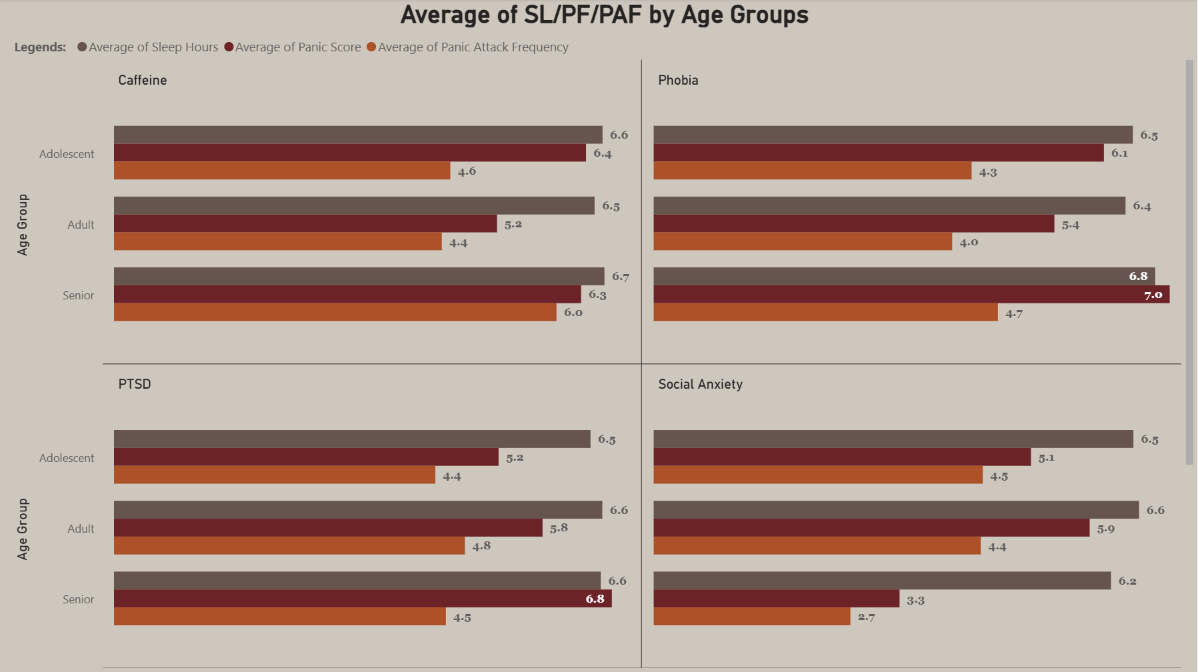

The page's visual inventory and layout, read from the dashboard file:
{"tool":"powerbi","page":{"name":"Age Group Analysis","canvas":[1280,720],"ordinal":3},"visuals":[{"type":"clusteredBarChart","title":"Average of SL/PF/PAF by Age Groups","fields":{"Category":["PANIC_ATTACK_DATA.Age Group"],"Rows":["PANIC_ATTACK_DATA.TRIGGER_REASON"],"Y":["Avg(PANIC_ATTACK_DATA.SLEEP_HOURS)","Avg(PANIC_ATTACK_DATA.PANIC_SCORE)","Avg(PANIC_ATTACK_DATA.PANIC_ATTACK_FREQUENCY)"]},"box":[9.7,0,1270.3,720.8],"z":1}]}

Visuals, with their boxes in screenshot pixels (x1, y1, x2, y2), scaled from the page's 1280x720 canvas onto the 1198x672 screenshot:
"Average of SL/PF/PAF by Age Groups" clusteredBarChart: 9/0/1197/671
